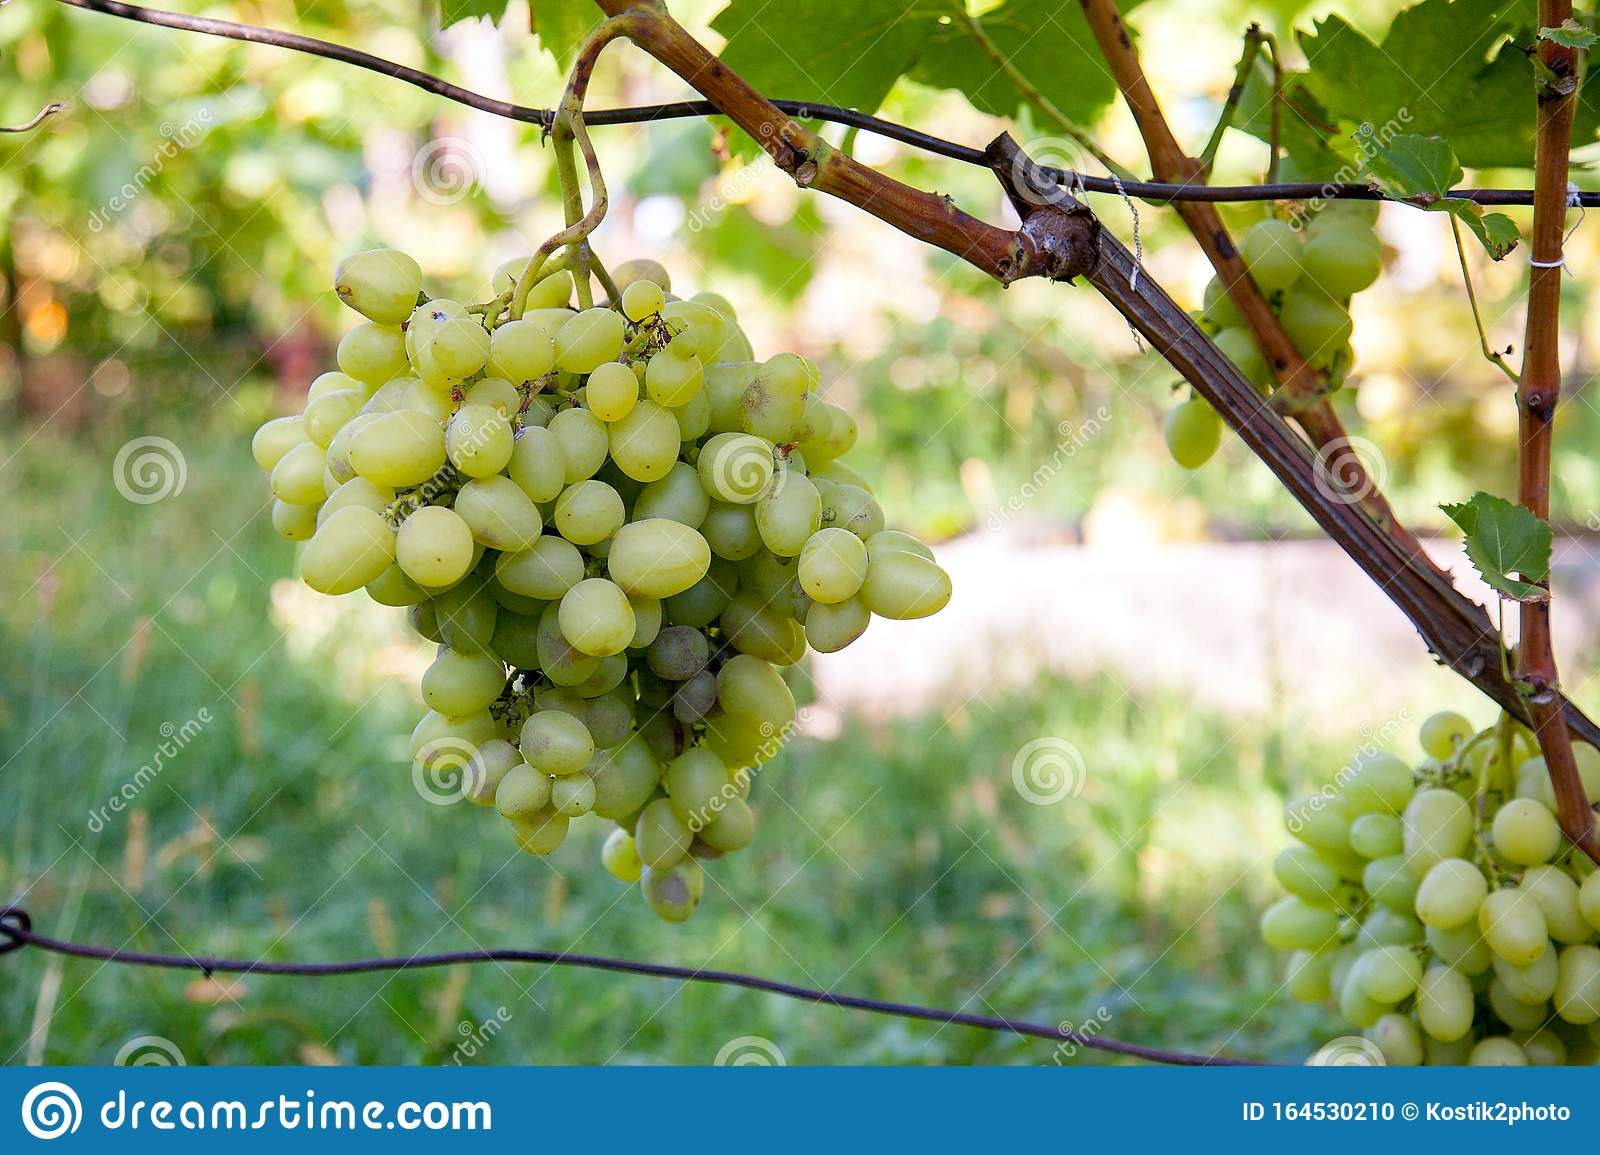grapes: (248, 210, 953, 943), (1234, 689, 1600, 1069)
